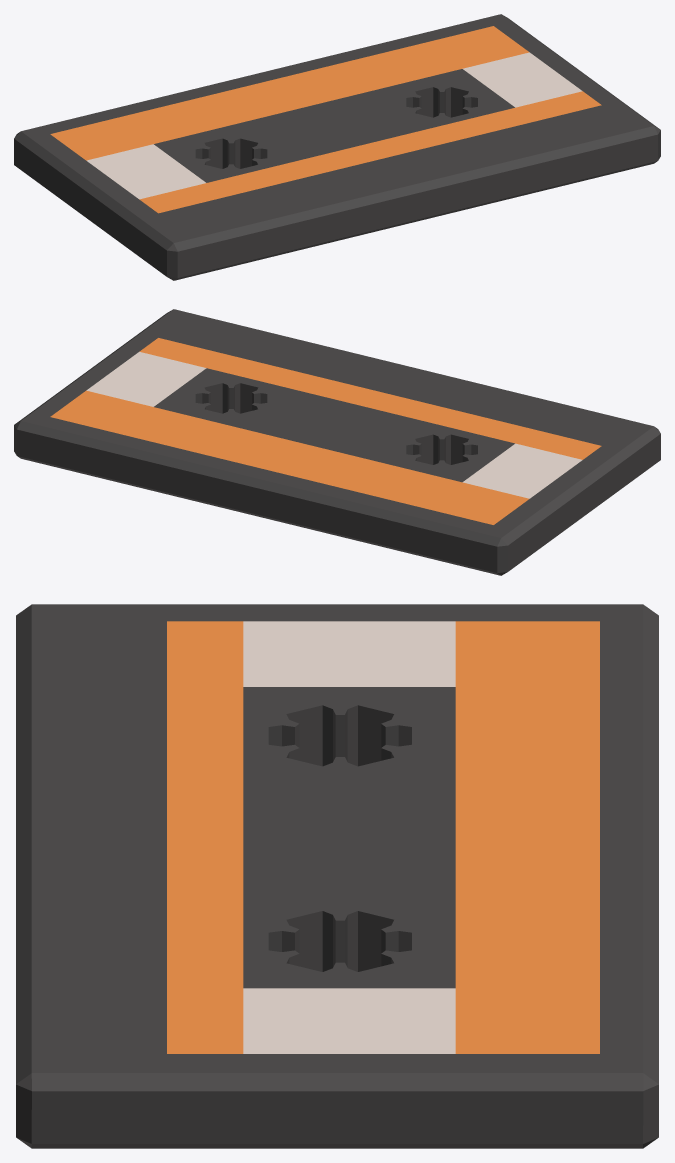
File: Audio_cassette_3.fbx
3 views of the same model, one above another, from view 1: azimuth 30°, elevation 25°; view 2: azimuth 150°, elevation 25°; view 3: azimuth 270°, elevation 25° (orthographic). The views are drawn at different scales.
Visible parts, largest first — view 1: Audio_cassette_3; view 2: Audio_cassette_3; view 3: Audio_cassette_3.
Boxes of the visible parts, box(x1,y1,x2,y2) form: Audio_cassette_3: box(14, 14, 660, 280); Audio_cassette_3: box(14, 309, 660, 575); Audio_cassette_3: box(16, 604, 658, 1148).
Size of the model in its own units: 9.69 by 5.46 by 0.7269.
